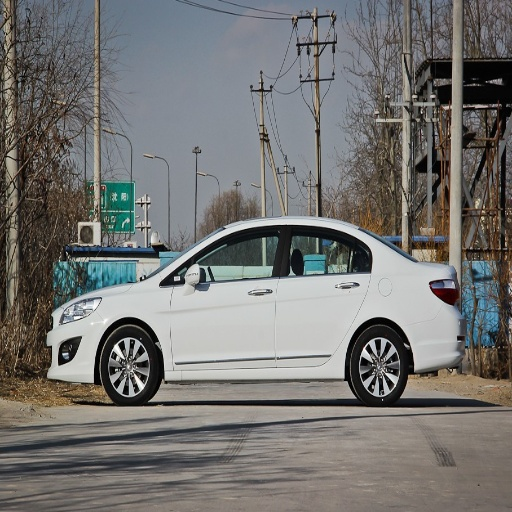back_left_door: (275, 225, 372, 366)
front_left_door: (170, 226, 285, 367)
